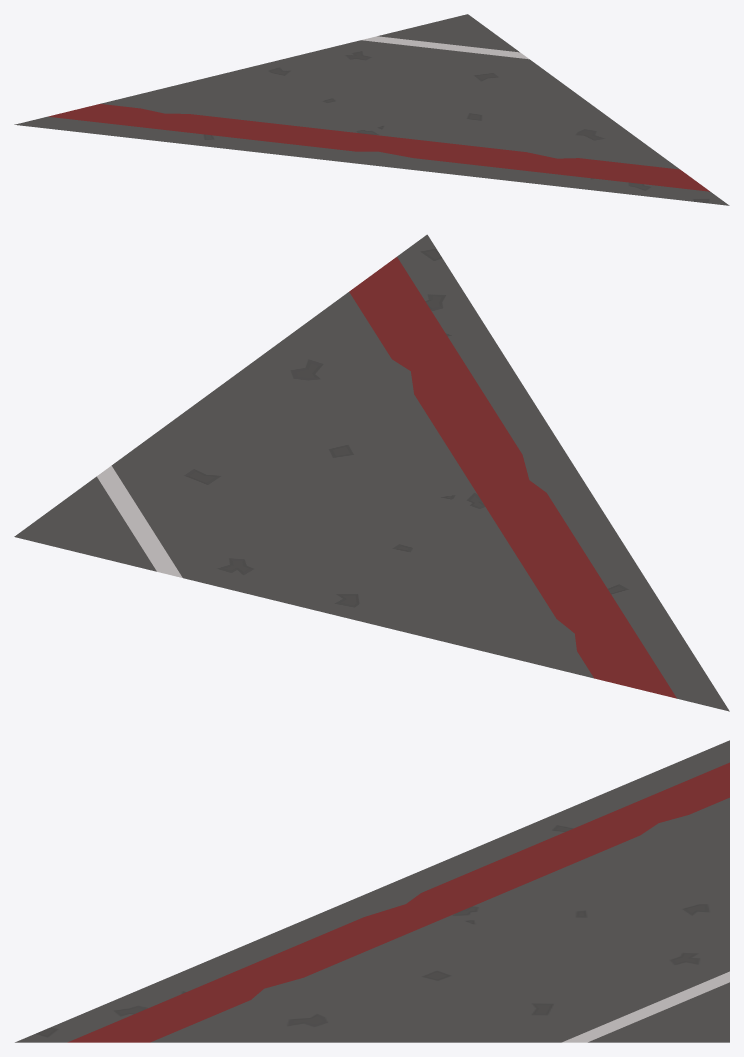
File: SM_Env_Ground_Lines_Edge_Corner_02.fbx
3 views of the same model, one above another, from view 1: azimuth 30°, elevation 25°; view 2: azimuth 150°, elevation 25°; view 3: azimuth 270°, elevation 25° (orthographic). The views are drawn at different scales.
Parts seen in each view (by area): view 1: SM_Env_Ground_Lines_Edge_Corner_02; view 2: SM_Env_Ground_Lines_Edge_Corner_02; view 3: SM_Env_Ground_Lines_Edge_Corner_02.
Part boxes in pixels (box(x1,y1,x2,y2)): SM_Env_Ground_Lines_Edge_Corner_02: box(14, 14, 729, 205); SM_Env_Ground_Lines_Edge_Corner_02: box(14, 234, 729, 711); SM_Env_Ground_Lines_Edge_Corner_02: box(15, 740, 729, 1042).
Bounding box in the file's own units: 1000 × 1.82e-12 × 1000.
